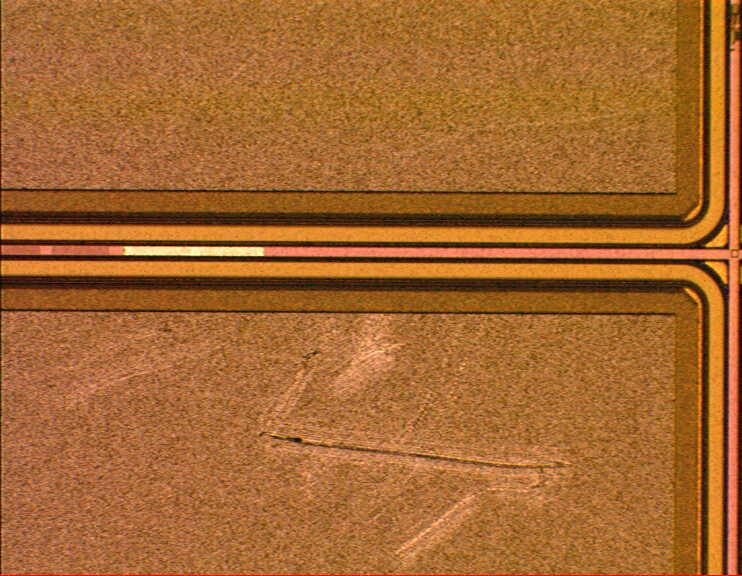SCRATCH: (11, 303, 578, 574)
